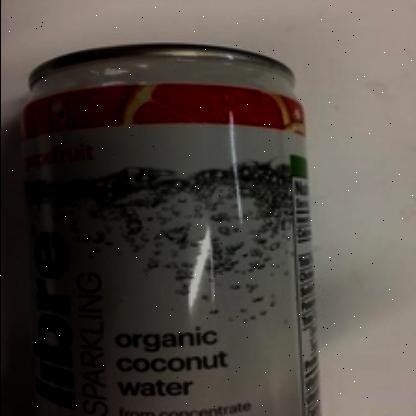Can: (22, 43, 320, 416)
